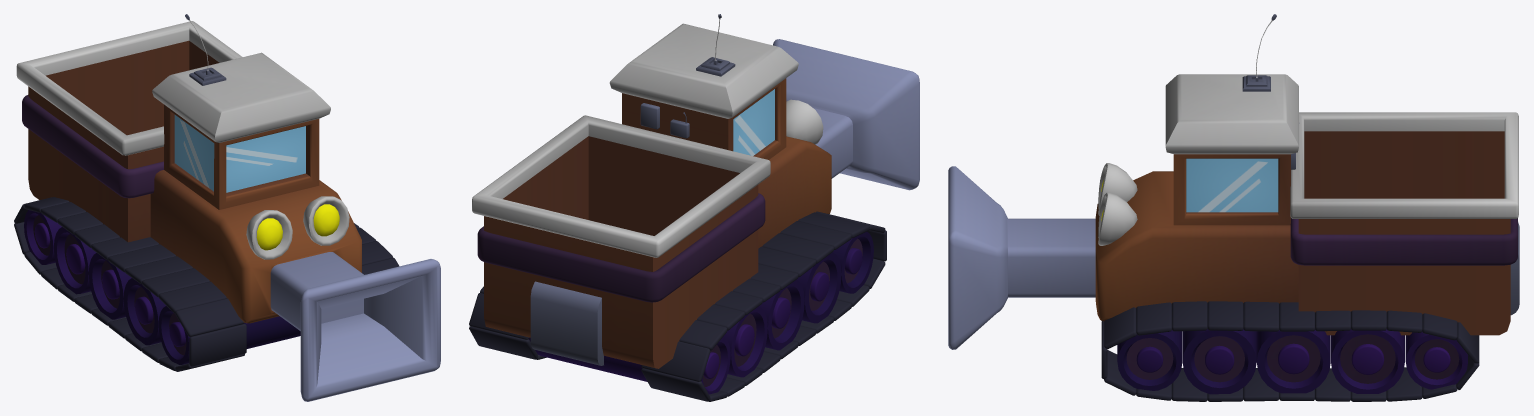
Rendered from tractor.fbx.
The picture shows the model from 3 angles, left to right: view 1: azimuth 30°, elevation 25°; view 2: azimuth 150°, elevation 25°; view 3: azimuth 270°, elevation 25°; orthographic projection. The views are drawn at different scales.
Parts seen in each view (by area): view 1: base, caterpillar; view 2: base, caterpillar; view 3: base, caterpillar.
Part boxes in pixels (box(x1,y1,x2,y2)): base: box(16, 14, 440, 401); caterpillar: box(14, 197, 399, 371); base: box(472, 14, 919, 368); caterpillar: box(469, 211, 886, 401); base: box(948, 14, 1519, 349); caterpillar: box(1101, 301, 1479, 401).
Size of the model in its own units: 4.84 by 6.25 by 10.28.
1 material, 1 textured.
